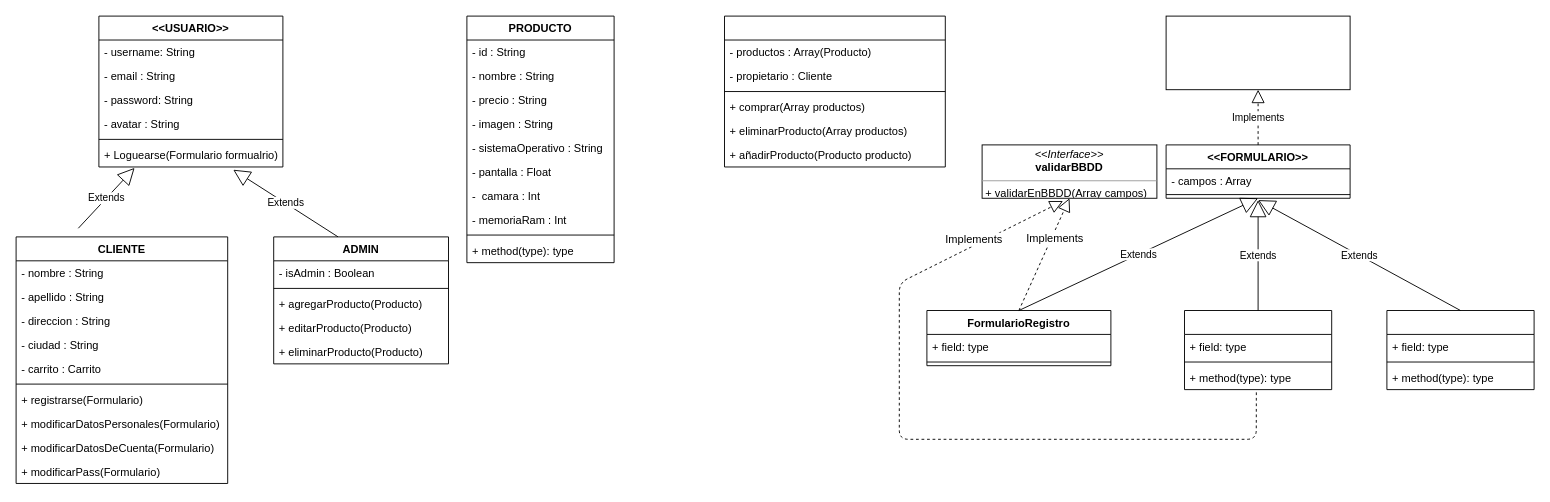
Image size: 1550x502. Some labels were removed from this diagram. Each missing label, with the box of its shape:
<<Interface>> Validar + validarCampos(Array campos): (1165, 15, 1350, 90)
CARRITO: (724, 15, 945, 167)
FormularioCambiarDatos: (1386, 310, 1534, 390)
FormularioLogin: (1184, 310, 1332, 390)
